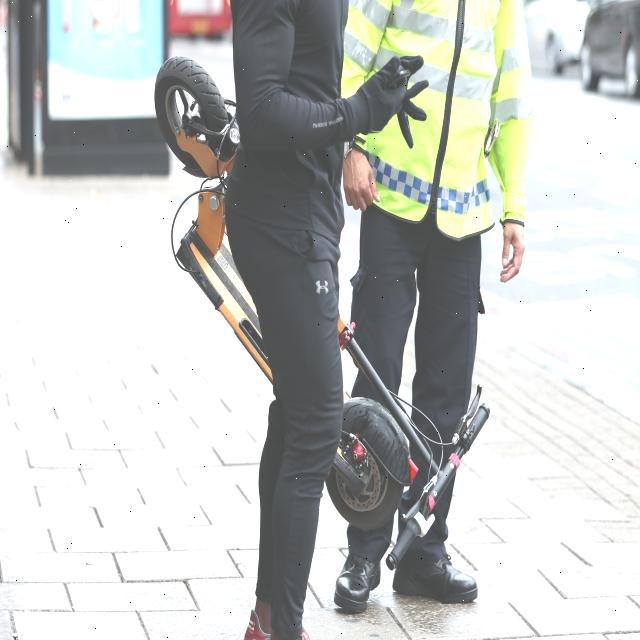police: (338, 0, 568, 623)
